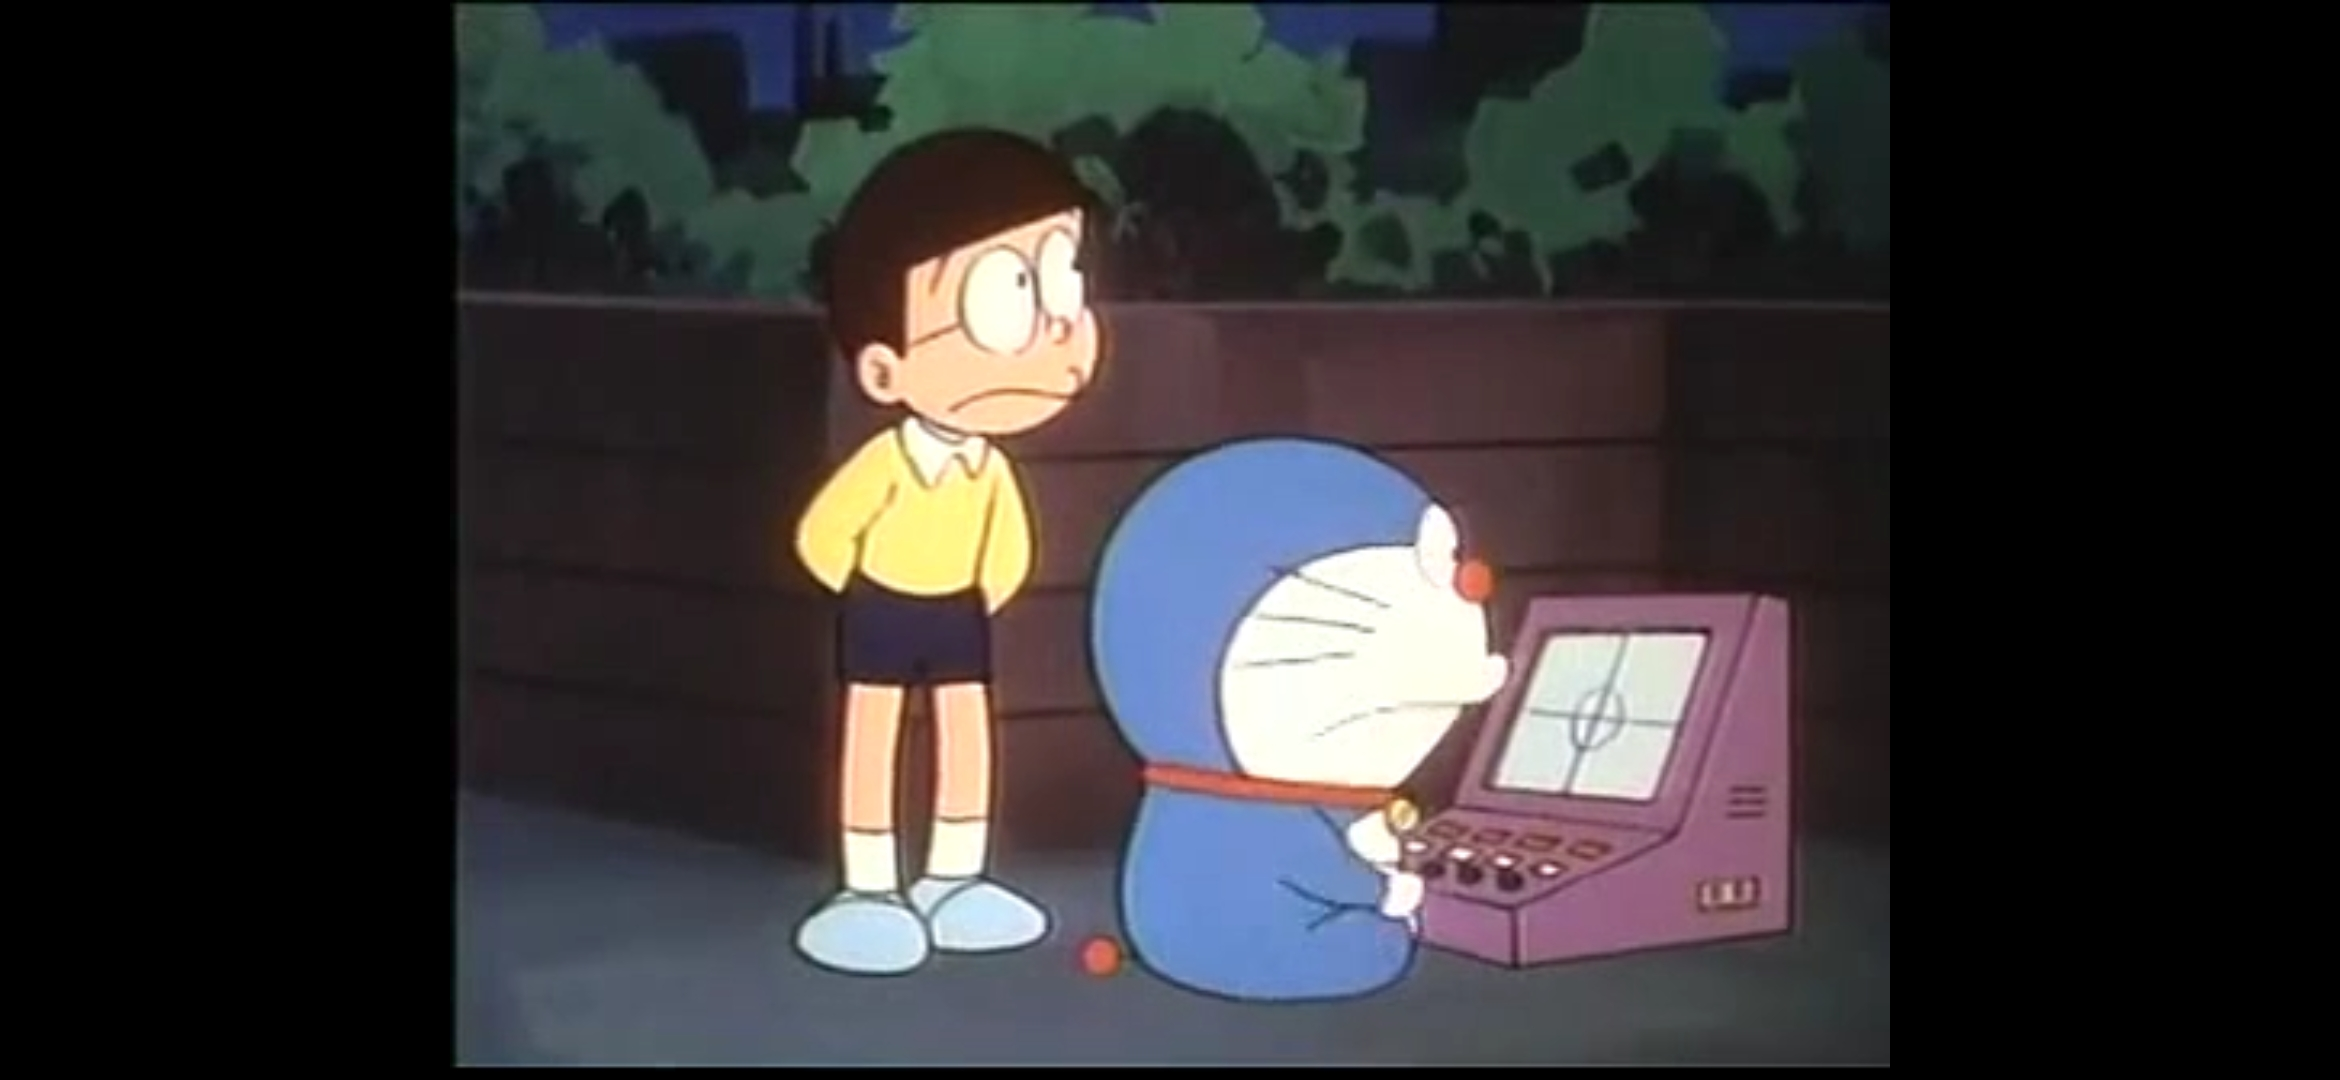Doraemon: (1088, 440, 1507, 834)
Nobi: (830, 127, 1103, 434)
